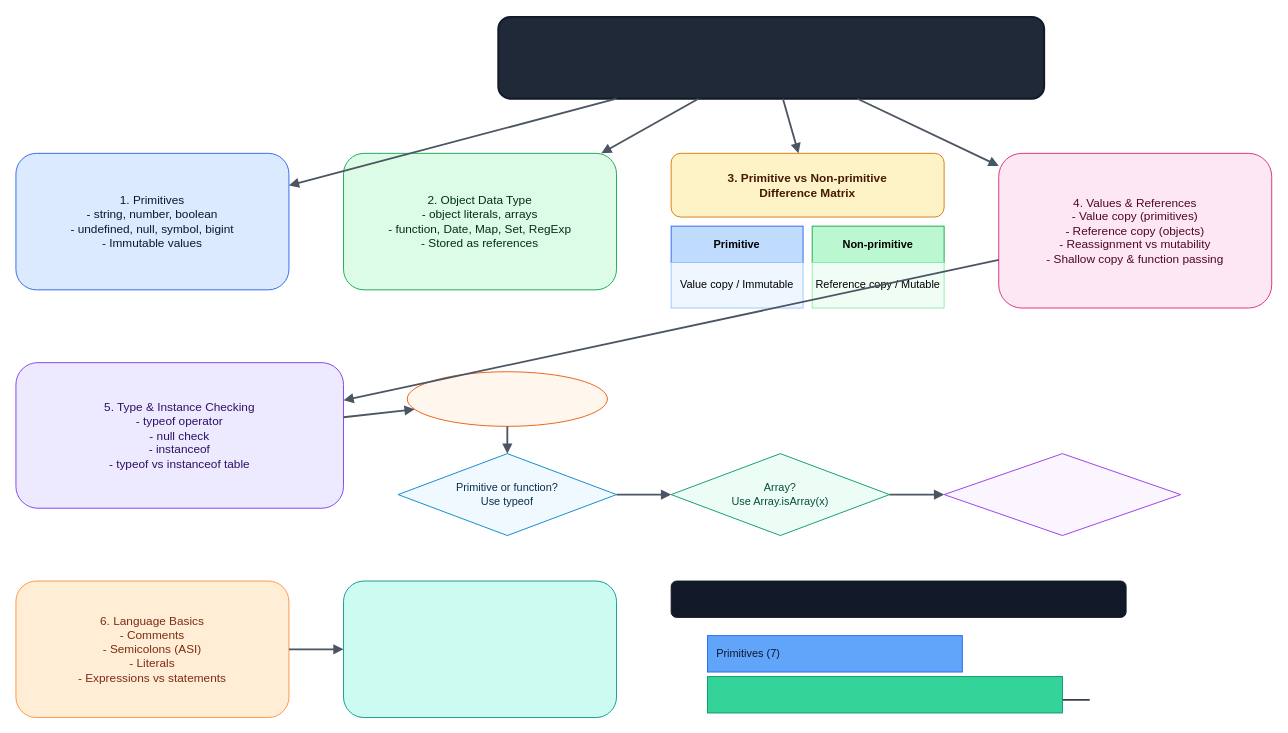
Image size: 1288x733. Some labels were removed from this diagram. The shapes that lost their labels are listed below. From the top down, each one's centre as x and y in pixels, then its label:
At [771,57]: "JavaScript Data Types & Values Visual Study Map".
At [506,398]: "Need to check a value".
At [1062,494]: "Specific class object? Use instanceof".
At [898,598]: "Type Family Count (High Level)".
At [480,649]: "7. Common Questions Quick interview revision points".
At [884,694]: "Object family (many built-ins)".
